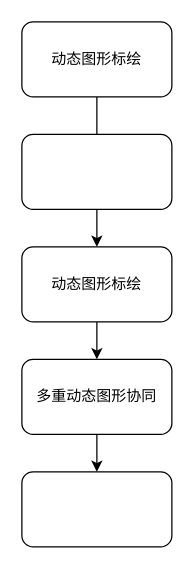
The diagram is 194 pixels wide and 569 high, and some of its shapes have lost their labels. The box of each missing label's shape, as (x1, y1, x2, y2) in pixels:
动态图形库管理: (21, 133, 172, 209)
标绘方案保存输出: (21, 471, 172, 547)
